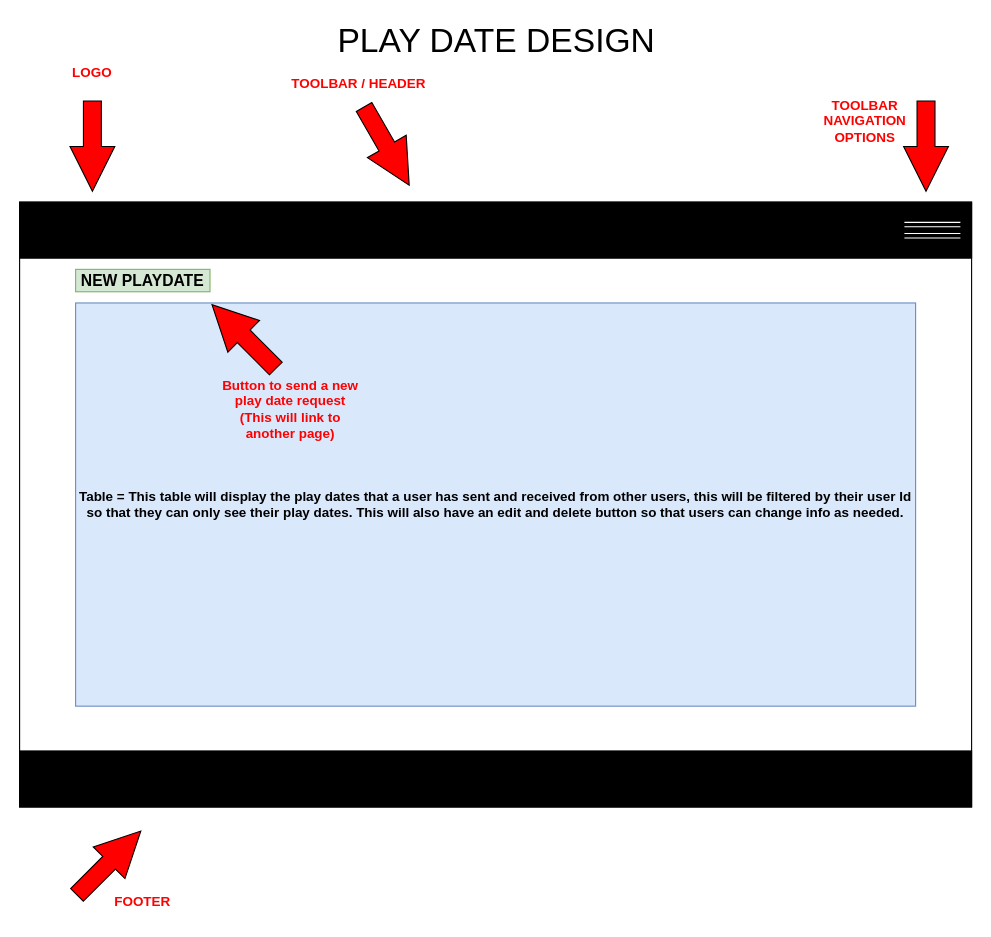
Image size: 991x937. Some labels were removed from this diagram. Here are the shapes that lost their labels. From the top down, the box of each, then its label:
(18, 201, 972, 258): PETS R US
(18, 750, 972, 807): PETS R US 2023
